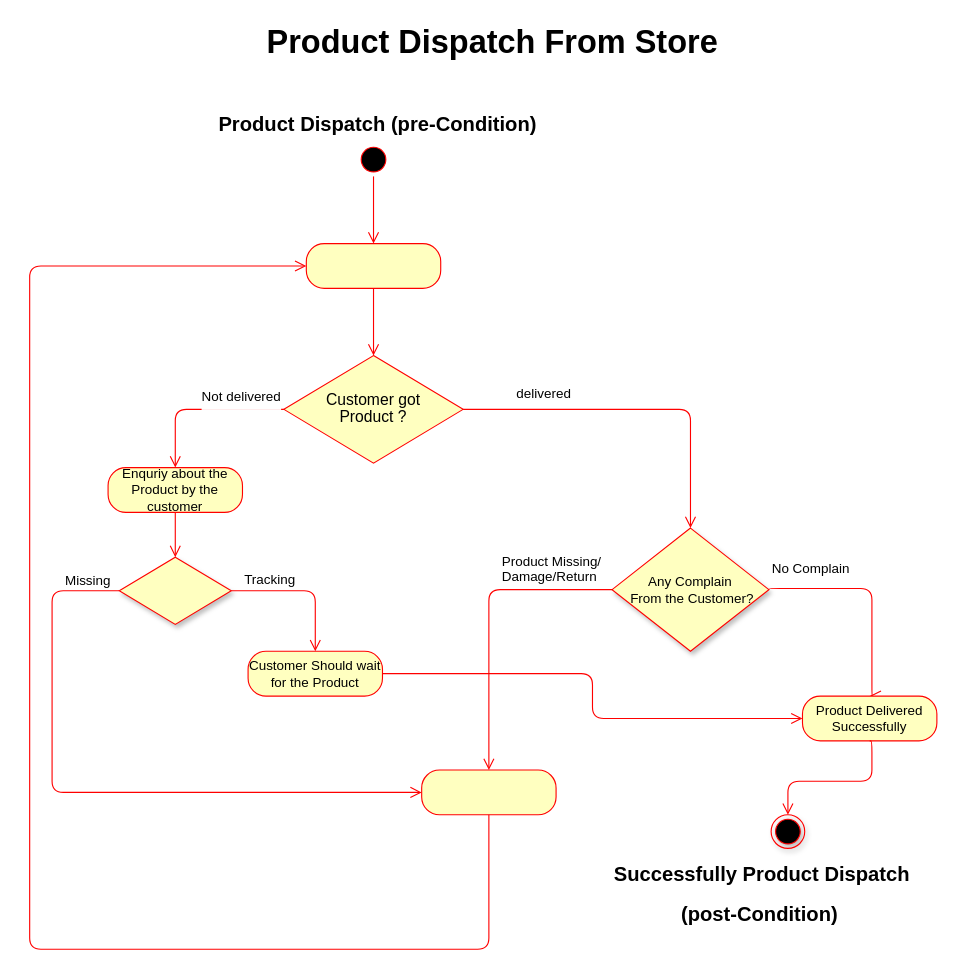
Image size: 956x980. Some labels were removed from this diagram. Here are the shapes that lost their labels. From the top down, the centre of each, then its label:
(373,265): Dispatch Order From Store
(176,592): Is Product?
(488,792): Msg From Customer to Complain of Store
